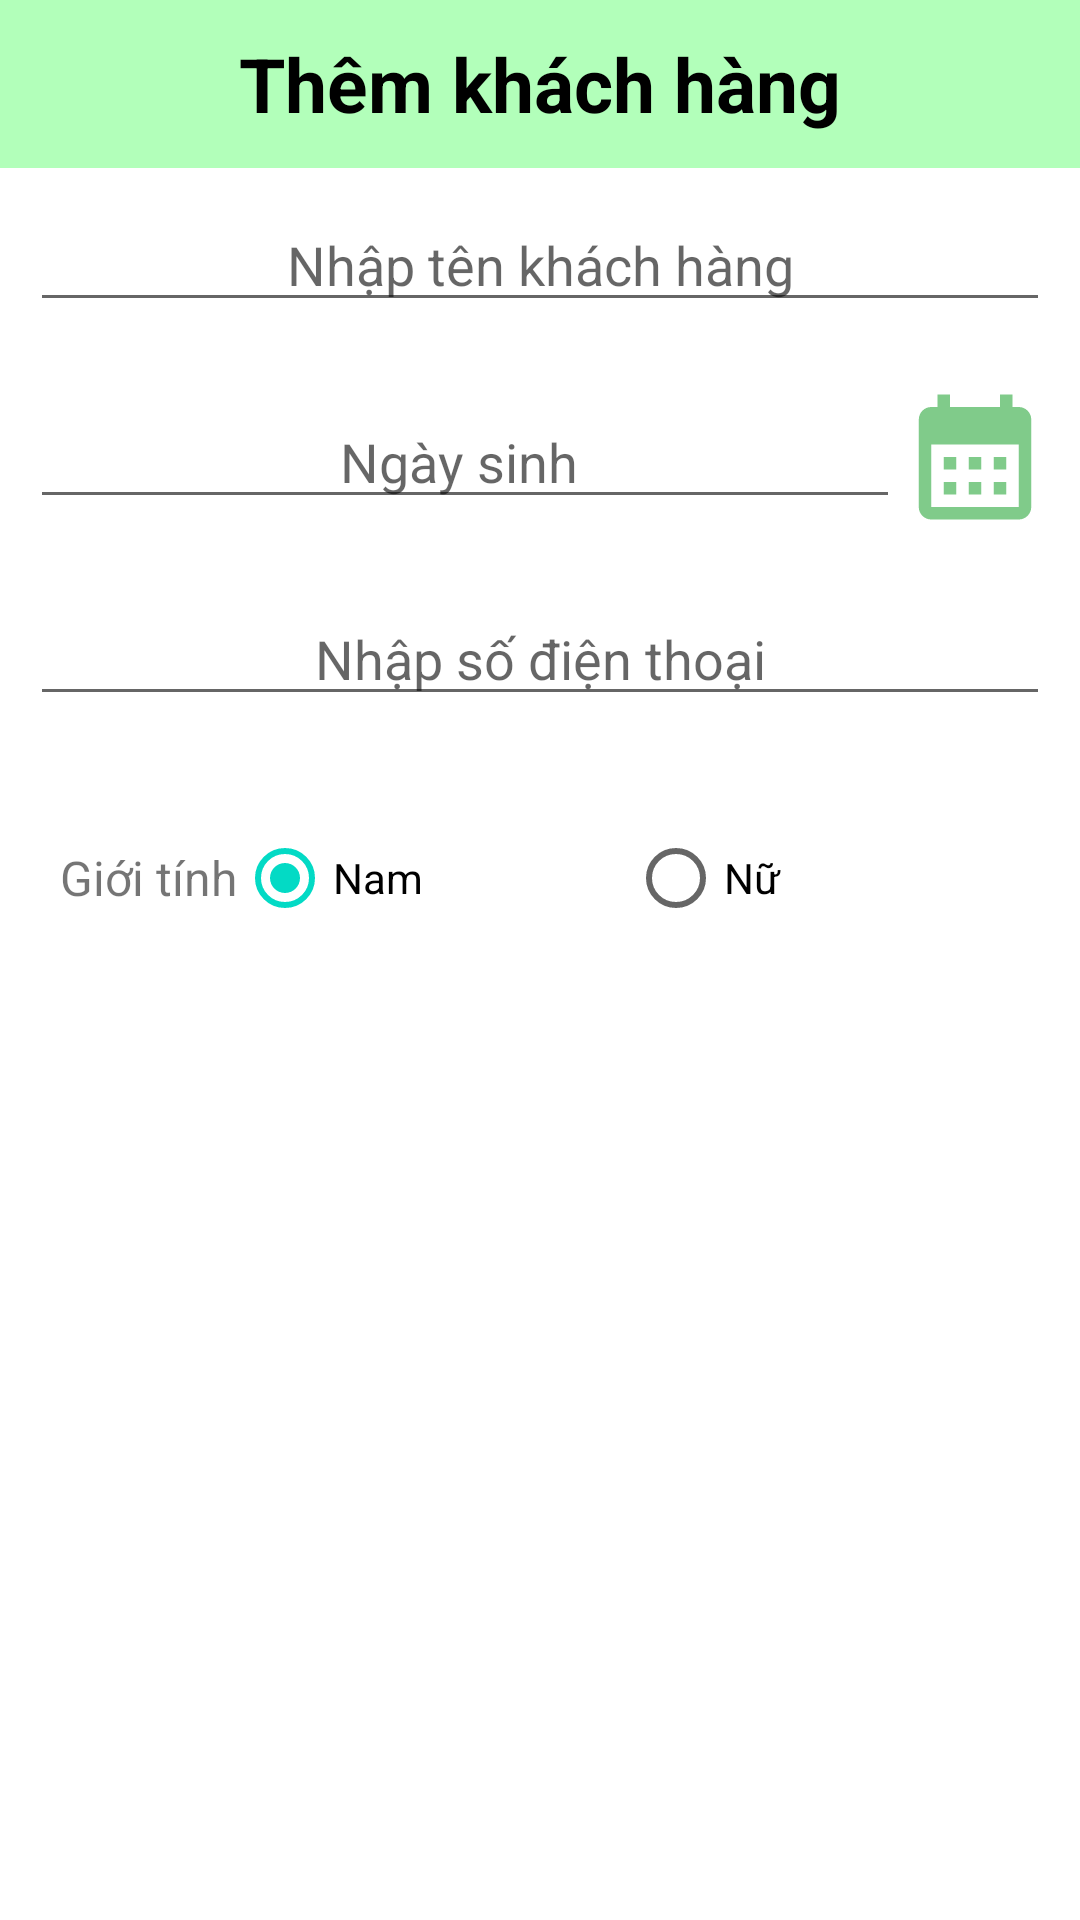

Icons on this 1080w x 1920h Android screen, each with its box as [x1, y1, x2, y2]:
calendar: [918, 394, 1032, 520]
